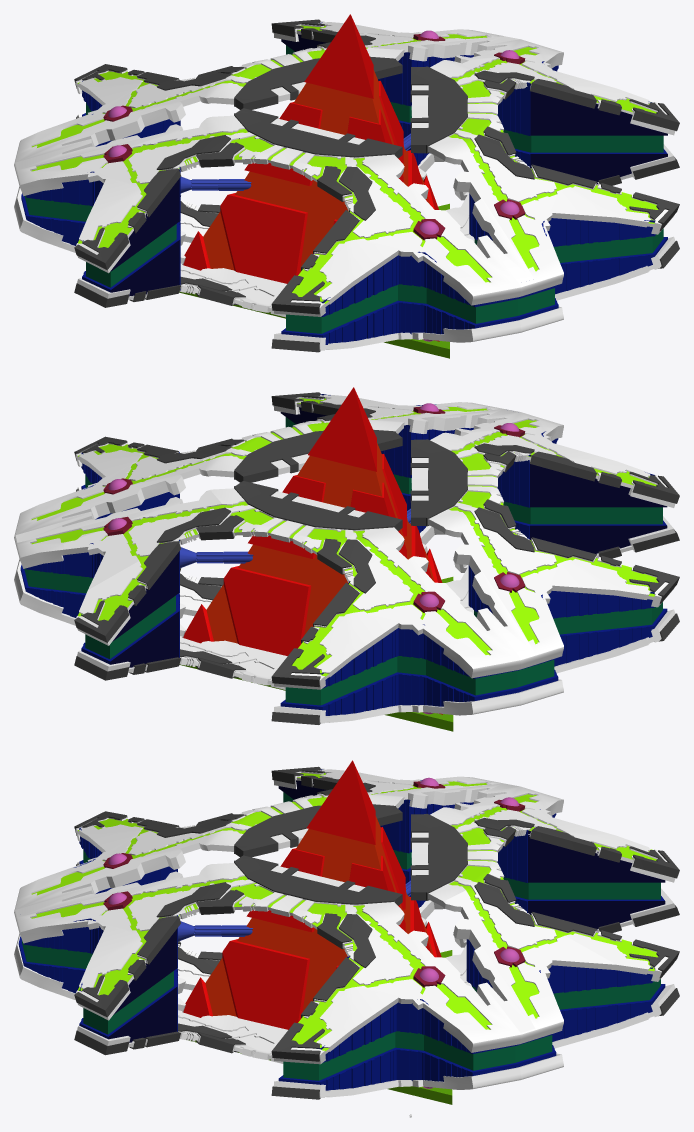
File: NaveMadre.fbx
The picture shows the model from 3 angles, top to bottom: view 1: azimuth 30°, elevation 25°; view 2: azimuth 150°, elevation 25°; view 3: azimuth 270°, elevation 25°; orthographic projection.
Parts seen in each view (by area): view 1: Object020, Object021, Line004, Object019, Object022, Object024, Object026, Object025, Object023, Object018, Object016, Object017; view 2: Object019, Object020, Line004, Object021, Object018, Object026, Object016, Object024, Object022, Object023, Object025, Object017; view 3: Object021, Object019, Line004, Object020, Object023, Object026, Object025, Object016, Object018, Object022, Object024, Object017.
Boxes of the visible parts, left/top/right/bottom form: Object020: left=14, top=115, right=521, bottom=350; Object021: left=411, top=39, right=675, bottom=332; Line004: left=183, top=14, right=439, bottom=341; Object019: left=14, top=21, right=519, bottom=245; Object022: left=74, top=108, right=402, bottom=352; Object024: left=21, top=167, right=519, bottom=344; Object026: left=24, top=45, right=663, bottom=333; Object025: left=469, top=61, right=667, bottom=319; Object023: left=410, top=66, right=679, bottom=268; Object018: left=74, top=19, right=402, bottom=226; Object016: left=21, top=22, right=473, bottom=195; Object017: left=179, top=203, right=449, bottom=358; Object019: left=14, top=488, right=521, bottom=723; Object020: left=411, top=412, right=675, bottom=705; Line004: left=183, top=387, right=442, bottom=714; Object021: left=14, top=394, right=519, bottom=618; Object018: left=74, top=481, right=402, bottom=724; Object026: left=24, top=417, right=662, bottom=705; Object016: left=20, top=540, right=518, bottom=715; Object024: left=468, top=431, right=667, bottom=692; Object022: left=410, top=439, right=679, bottom=641; Object023: left=74, top=392, right=402, bottom=600; Object025: left=21, top=394, right=473, bottom=567; Object017: left=179, top=577, right=453, bottom=731; Object021: left=14, top=863, right=521, bottom=1097; Object019: left=411, top=786, right=675, bottom=1079; Line004: left=183, top=760, right=441, bottom=1029; Object020: left=14, top=768, right=519, bottom=993; Object023: left=74, top=855, right=402, bottom=1099; Object026: left=22, top=792, right=660, bottom=1080; Object025: left=19, top=915, right=516, bottom=1090; Object016: left=466, top=809, right=665, bottom=1067; Object018: left=410, top=814, right=679, bottom=1015; Object022: left=74, top=766, right=402, bottom=974; Object024: left=18, top=769, right=473, bottom=944; Object017: left=188, top=950, right=452, bottom=1104.
Bounding box in the file's own units: 5214 × 2364 × 5102.
